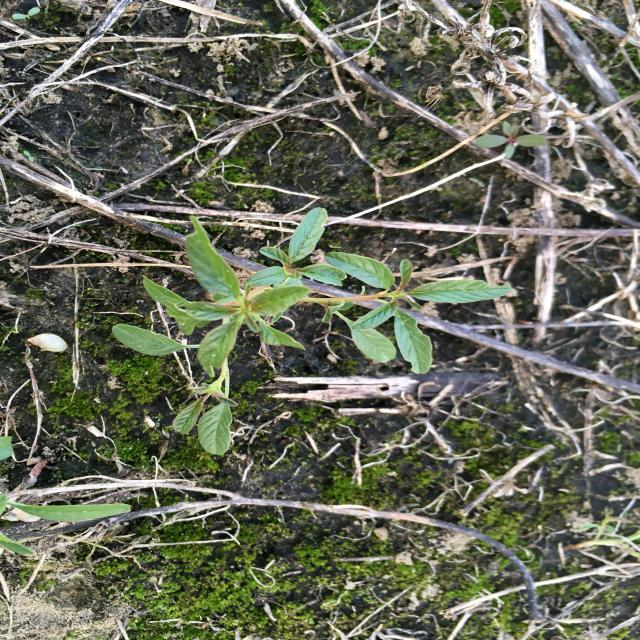Waterhemp: (108, 205, 514, 458)
